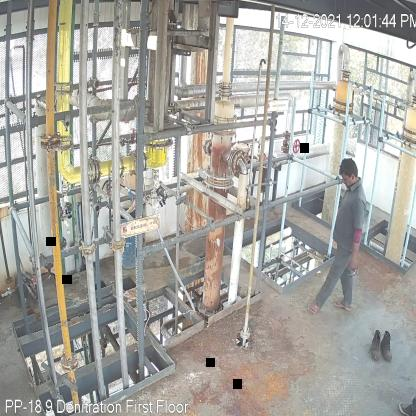no_shoes: (307, 300, 322, 316), (334, 300, 352, 313)
